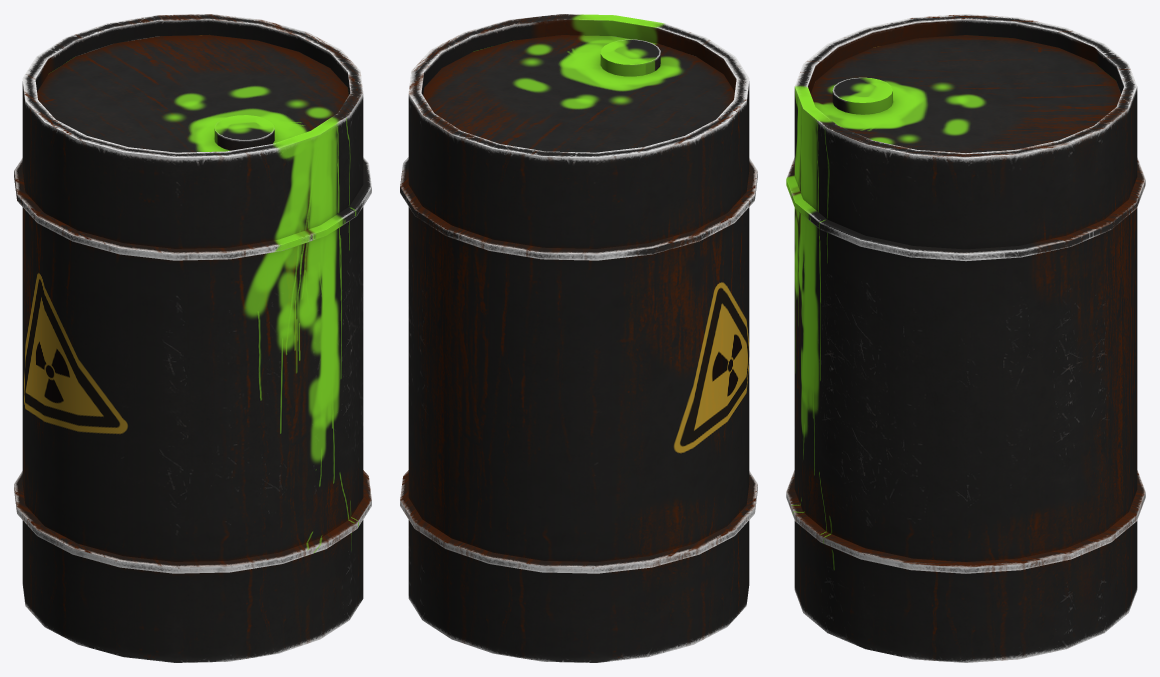
Rendered from metal_toxin_barrel.glb.
3 renders of one model, left to right at view 1: azimuth 30°, elevation 25°; view 2: azimuth 150°, elevation 25°; view 3: azimuth 270°, elevation 25°, orthographic.
Visible parts, largest first — view 1: Object_2; view 2: Object_2; view 3: Object_2.
Boxes of the visible parts, box(x1,y1,x2,y2) form: Object_2: box(14, 14, 371, 662); Object_2: box(400, 14, 757, 662); Object_2: box(786, 14, 1145, 662).
Size of the model in its own units: 8.4 by 13 by 8.4.
Materials: 1 (1 with a texture image).
